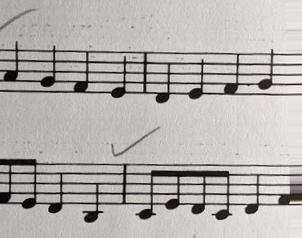A: (2, 39, 21, 95)
D: (241, 163, 262, 217), (153, 50, 172, 108), (46, 161, 66, 216)
E: (186, 49, 205, 103), (109, 49, 128, 100)
F: (220, 49, 241, 102), (71, 47, 91, 100)
G: (39, 43, 58, 95), (256, 47, 275, 98)
